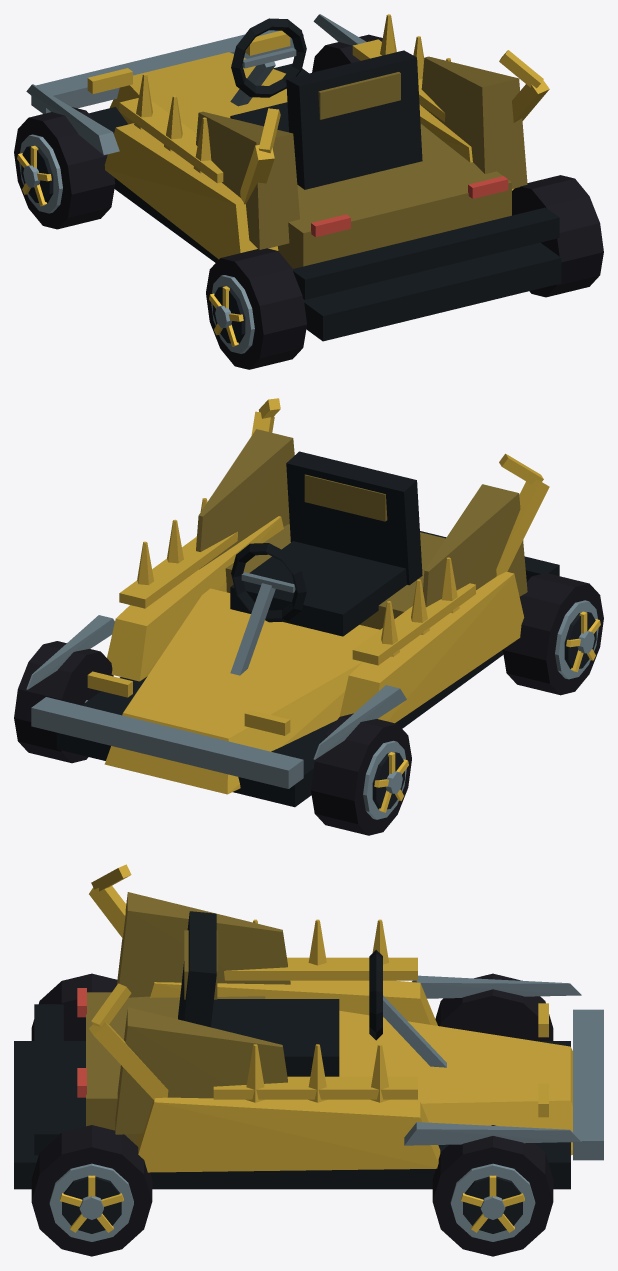
Rendered from kart.glb.
3 views of the same model, one above another, from view 1: azimuth 30°, elevation 25°; view 2: azimuth 150°, elevation 25°; view 3: azimuth 270°, elevation 25° (orthographic). The views are drawn at different scales.
Parts seen in each view (by area): view 1: chassis, wheel-rear-left, wheel-front-left, wheel-rear-right, wheel-front-right; view 2: chassis, wheel-front-left, wheel-rear-left, wheel-front-right; view 3: chassis, wheel-rear-right, wheel-front-right, wheel-front-left, wheel-rear-left.
Part boxes in pixels (bbox=[...]): chassis: bbox=[26, 14, 561, 341]; wheel-rear-left: bbox=[206, 248, 306, 369]; wheel-front-left: bbox=[14, 107, 115, 229]; wheel-rear-right: bbox=[512, 175, 603, 297]; wheel-front-right: bbox=[312, 34, 382, 72]; chassis: bbox=[26, 398, 559, 807]; wheel-front-left: bbox=[311, 713, 411, 835]; wheel-rear-left: bbox=[502, 573, 603, 695]; wheel-front-right: bbox=[14, 641, 113, 763]; chassis: bbox=[14, 864, 603, 1189]; wheel-rear-right: bbox=[31, 1125, 152, 1256]; wheel-front-right: bbox=[432, 1125, 553, 1256]; wheel-front-left: bbox=[435, 973, 553, 1040]; wheel-rear-left: bbox=[31, 973, 117, 1040].
Bounding box in the file's own units: 2.28 × 1.38 × 3.03.
